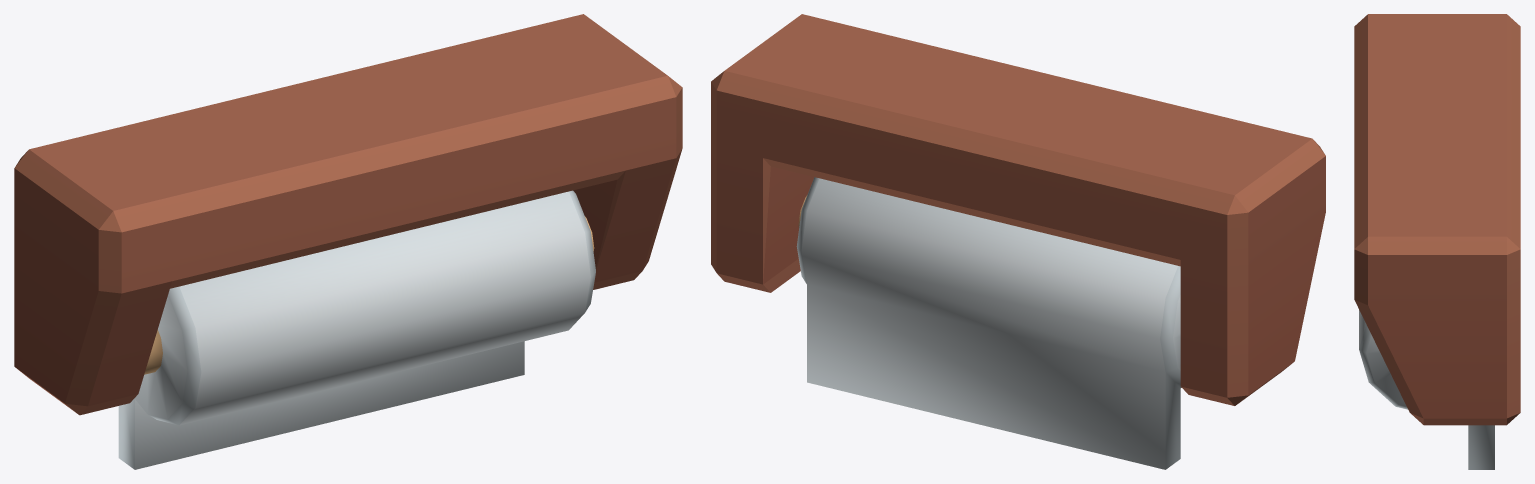
File: shelf_papertowel.obj
3 renders of one model, left to right at view 1: azimuth 30°, elevation 25°; view 2: azimuth 150°, elevation 25°; view 3: azimuth 270°, elevation 25°, orthographic. The views are drawn at different scales.
Parts seen in each view (by area): view 1: shelf_papertowel_Cube.238; view 2: shelf_papertowel_Cube.238; view 3: shelf_papertowel_Cube.238.
Boxes of the visible parts, x1,y1,x2,y2 form: shelf_papertowel_Cube.238: (14,14,682,469); shelf_papertowel_Cube.238: (711,14,1325,469); shelf_papertowel_Cube.238: (1354,14,1520,469).
Size of the model in its own units: 2 by 1.06 by 0.6.
Materials: 1 (1 with a texture image).
